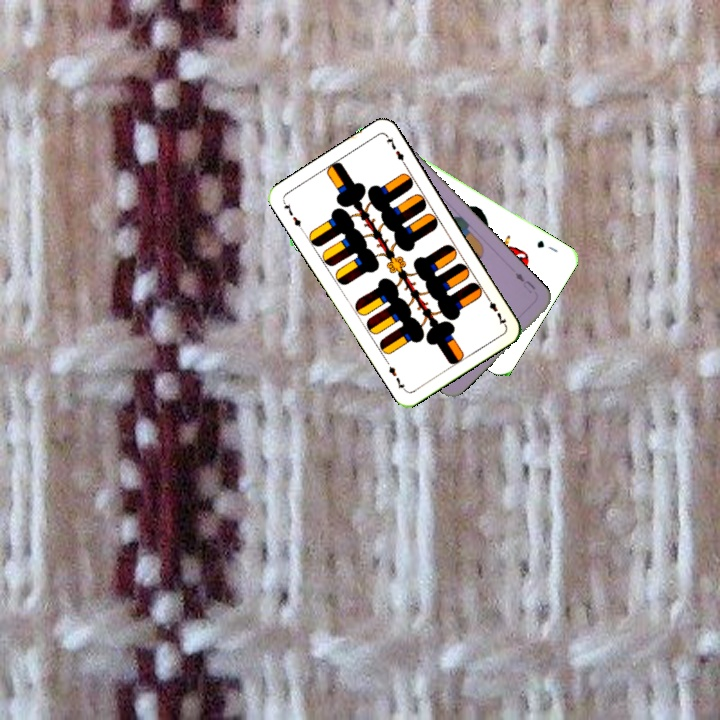E7: (482, 291, 509, 328), (279, 198, 306, 234)
EU: (511, 268, 538, 296)
GU: (533, 236, 560, 255)
